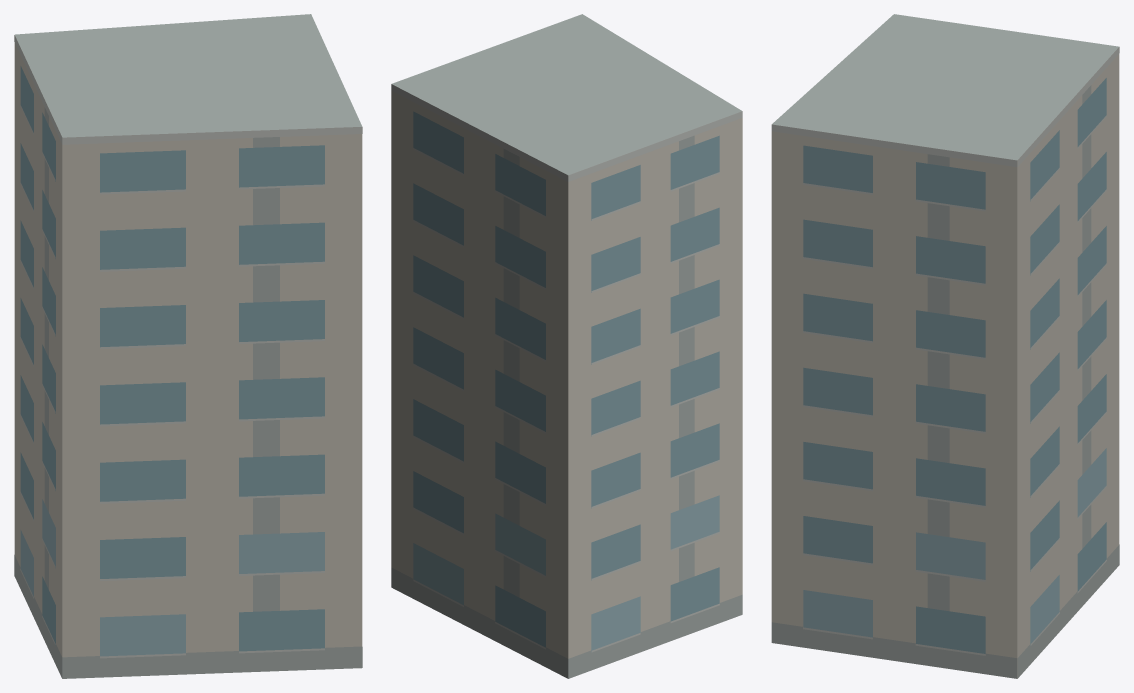
The model's file is survey-upis-32939183.glb.
The picture shows the model from 3 angles, left to right: view 1: azimuth 30°, elevation 25°; view 2: azimuth 150°, elevation 25°; view 3: azimuth 270°, elevation 25°; orthographic projection. The views are drawn at different scales.
Visible parts, largest first — view 1: survey-upis-32939183.tmp; view 2: survey-upis-32939183.tmp; view 3: survey-upis-32939183.tmp.
Part boxes in pixels (bbox=[...]): survey-upis-32939183.tmp: bbox=[14, 14, 362, 678]; survey-upis-32939183.tmp: bbox=[391, 14, 742, 678]; survey-upis-32939183.tmp: bbox=[771, 14, 1119, 678].
Bounding box in the file's own units: 11.21 × 18.5 × 11.26.
